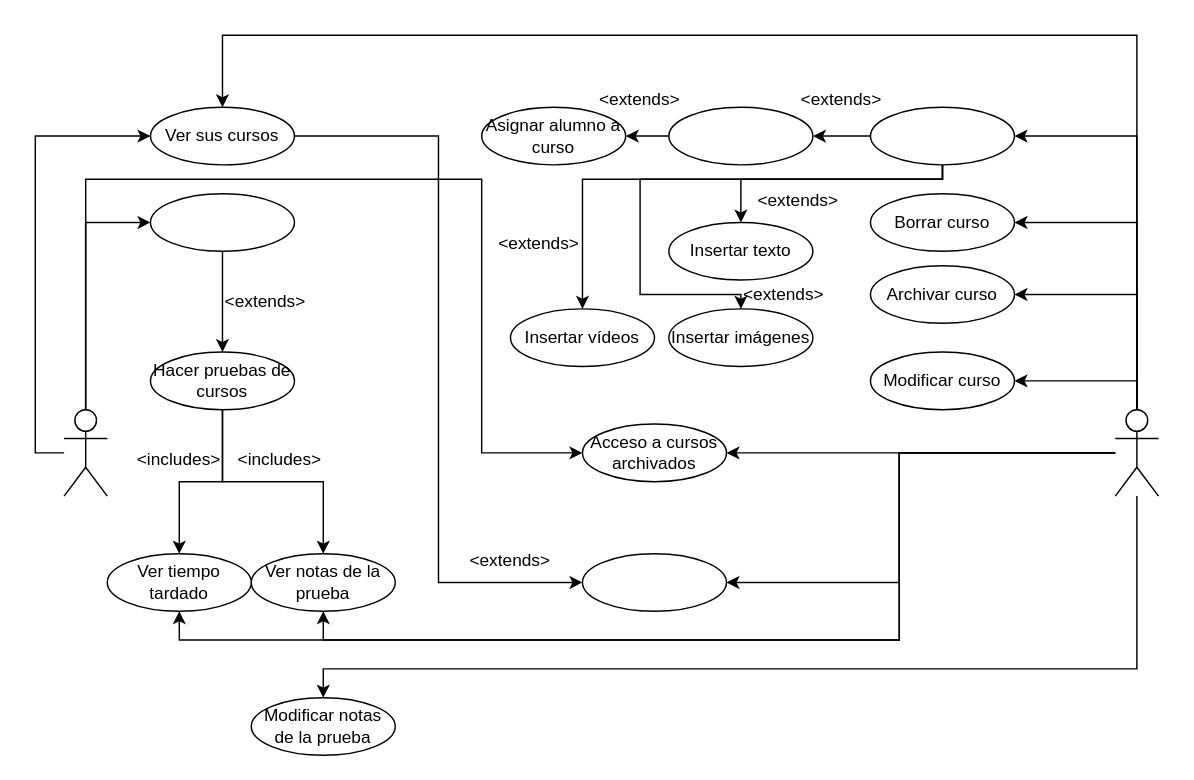
Some shapes in this 1194 by 780 pixel diagram are drawn without their labels. Each missing label, with the centre of its shape:
Alumno: [85,452]
Añadir comentarios: [653,581]
Crear cursos: [941,135]
Profesor: [1136,452]
Publicar curso: [740,135]
Realizar sus cursos: [221,221]
